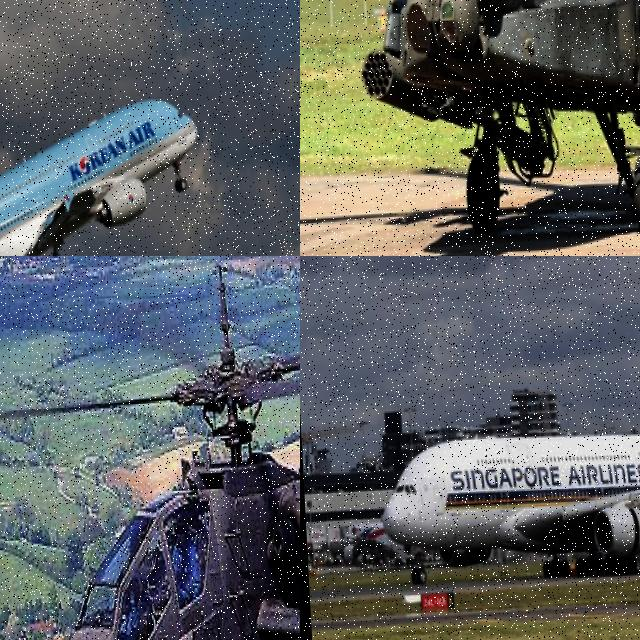A380: (370, 257, 640, 574), (0, 95, 206, 256)
Apache: (0, 256, 300, 640), (300, 0, 640, 248)
